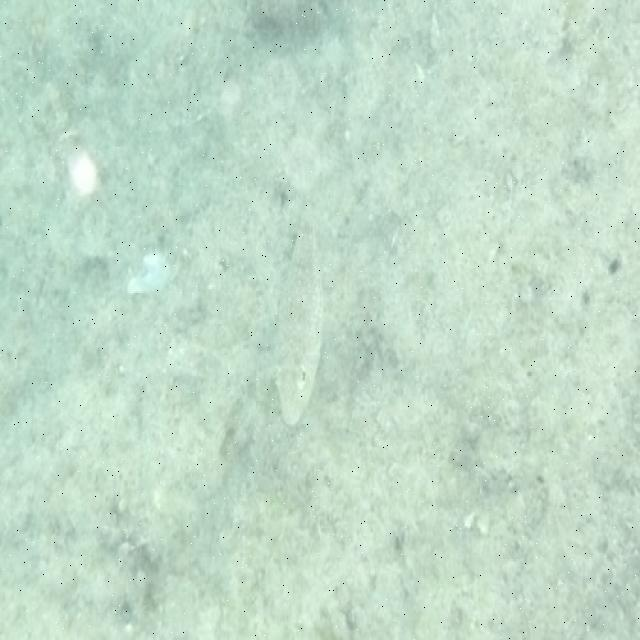Balik: (277, 222, 322, 426)
